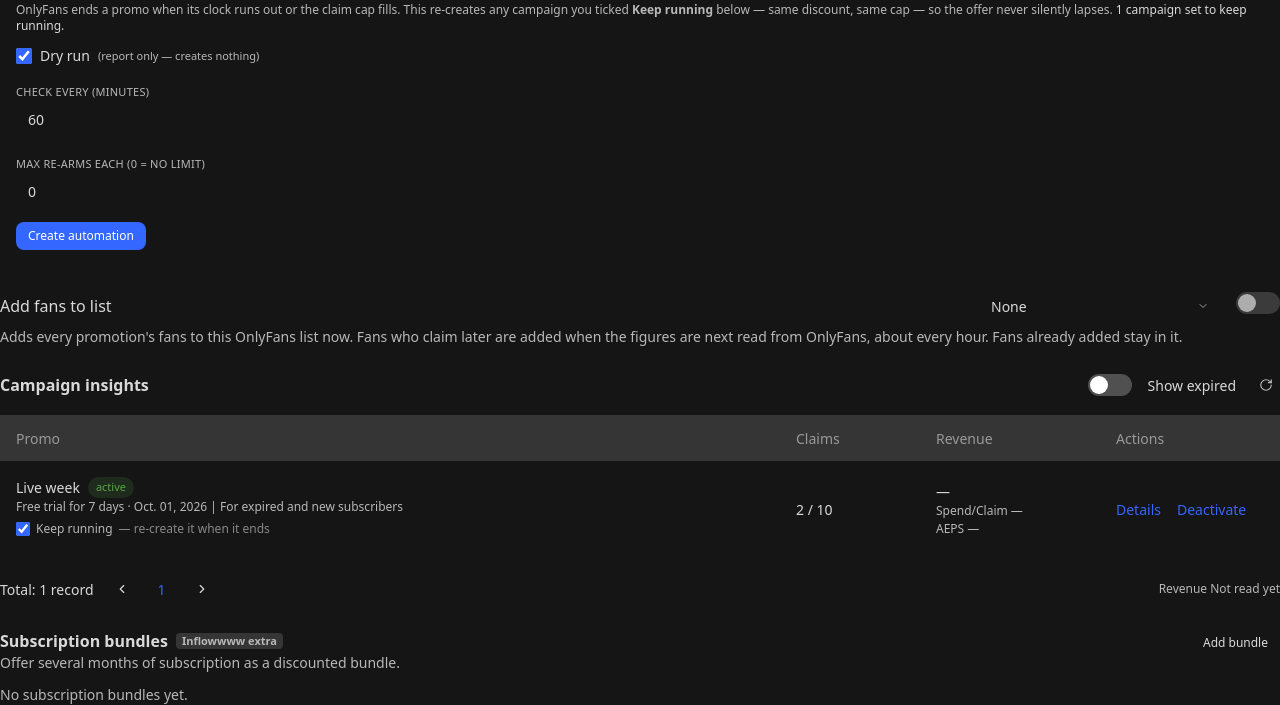
Test: PromotionTab › Cancel on the Deactivate confirm sends nothing
This screenshot has width=1280, height=705.
(page scrolled)
Expected: the text "Live week" is shown, [16,477,80,498]
Click the button "Deactivate": (1212, 509) [1177,493,1246,525]
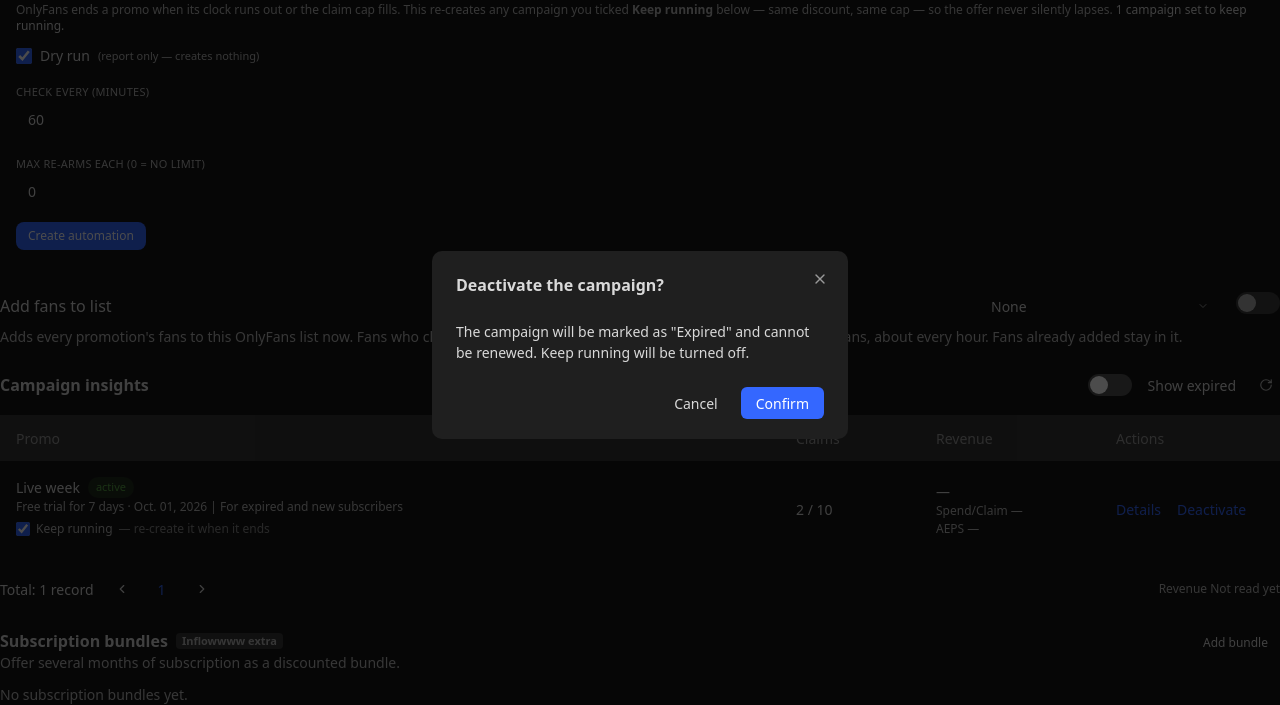
Click the button "Cancel": (696, 403) [659,387,733,419]
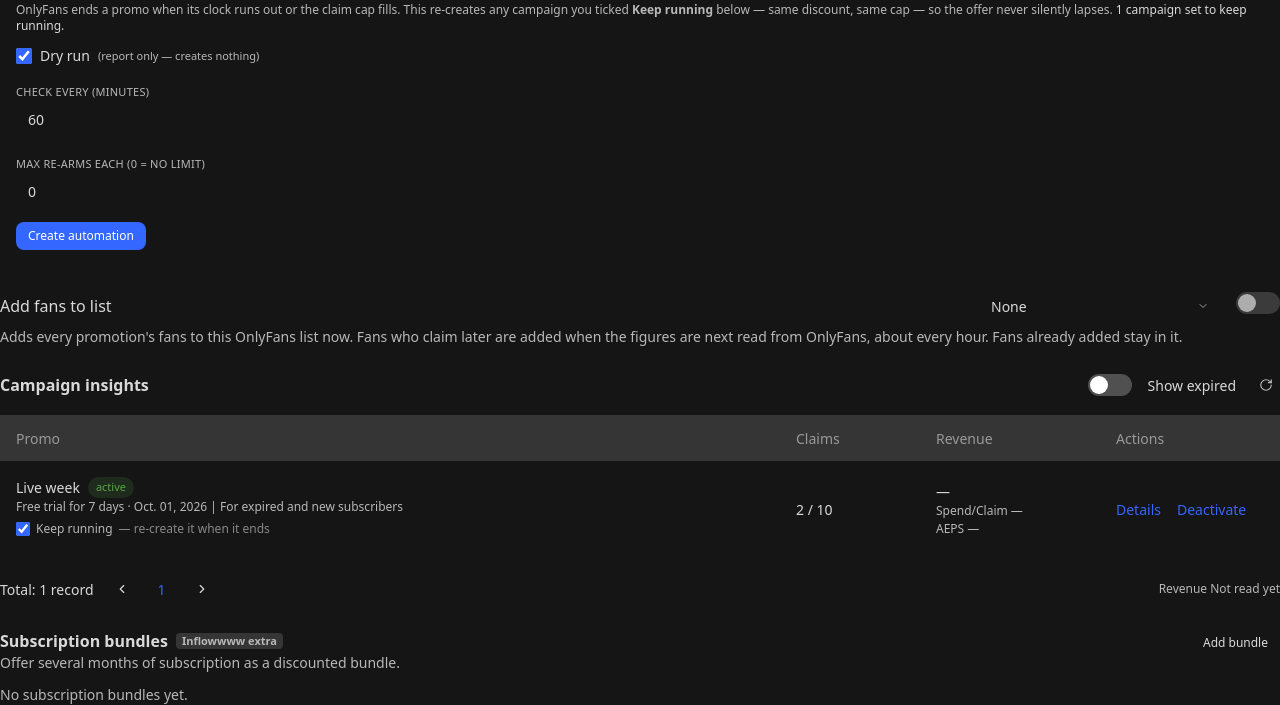
Expected: the dialog is gone
